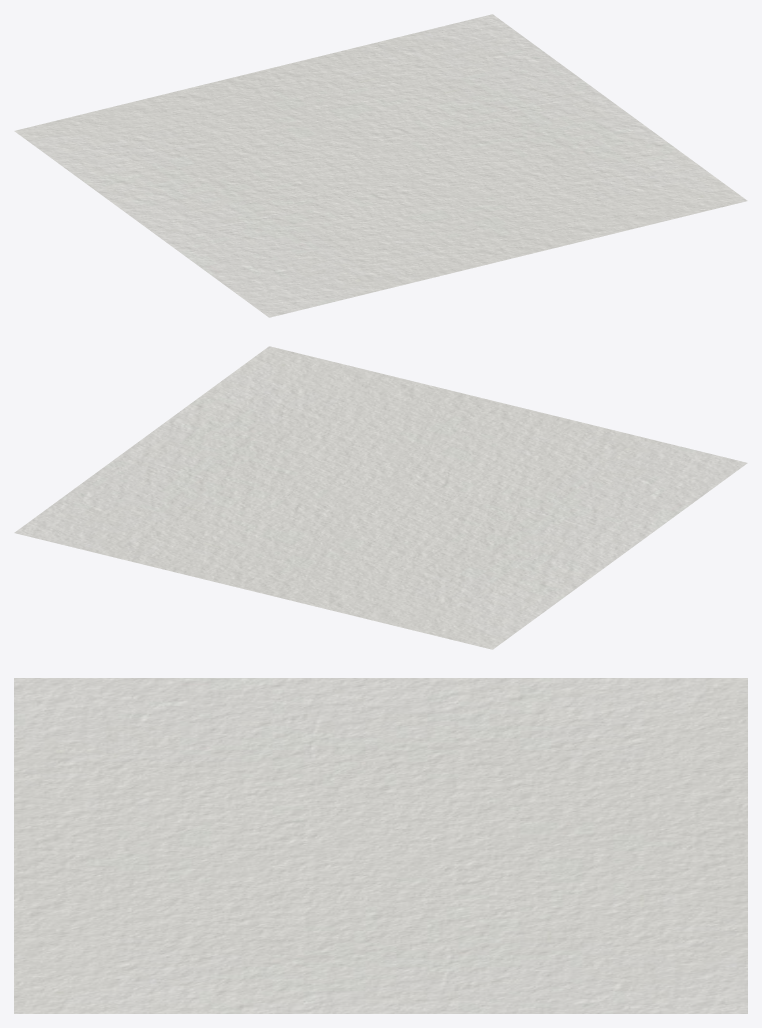
File: sticker.fbx
3 renders of one model, top to bottom at view 1: azimuth 30°, elevation 25°; view 2: azimuth 150°, elevation 25°; view 3: azimuth 270°, elevation 25°, orthographic. The views are drawn at different scales.
Parts seen in each view (by area): view 1: Cube; view 2: Cube; view 3: Cube.
Boxes of the visible parts, bbox=[...] form: Cube: bbox=[14, 14, 747, 317]; Cube: bbox=[14, 346, 747, 649]; Cube: bbox=[14, 678, 747, 1013].
Size of the model in its own units: 100 by 9.54e-06 by 92.36.
